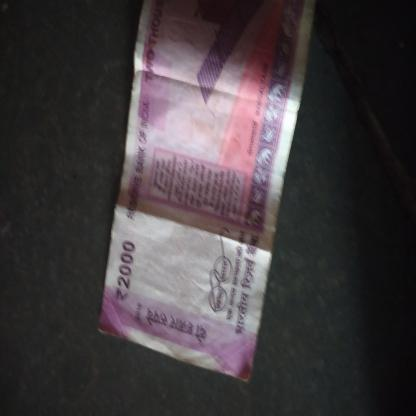New2000Back: (109, 0, 281, 370)
